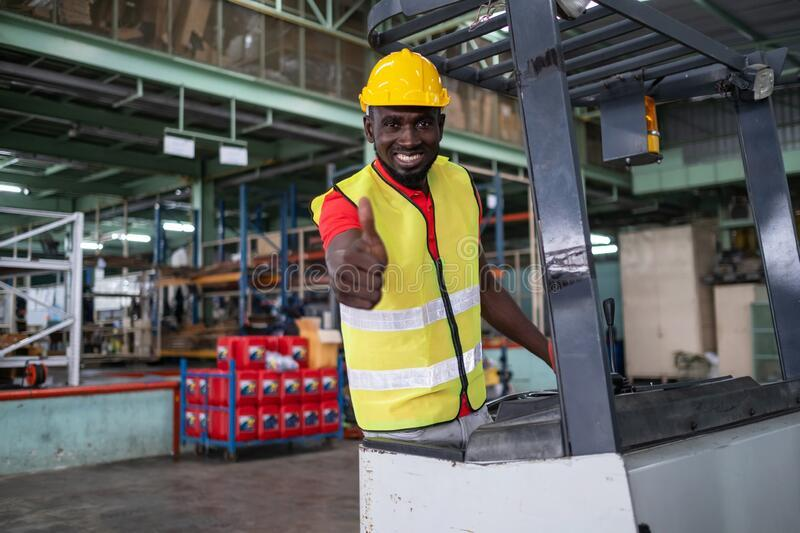hat: (331, 34, 491, 137)
vest: (298, 140, 562, 464)
